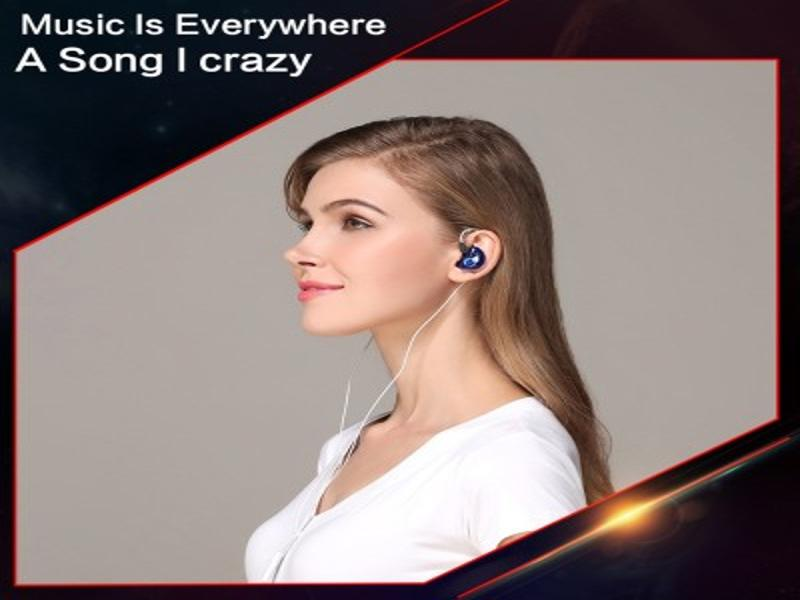headphone: (458, 245, 487, 274)
